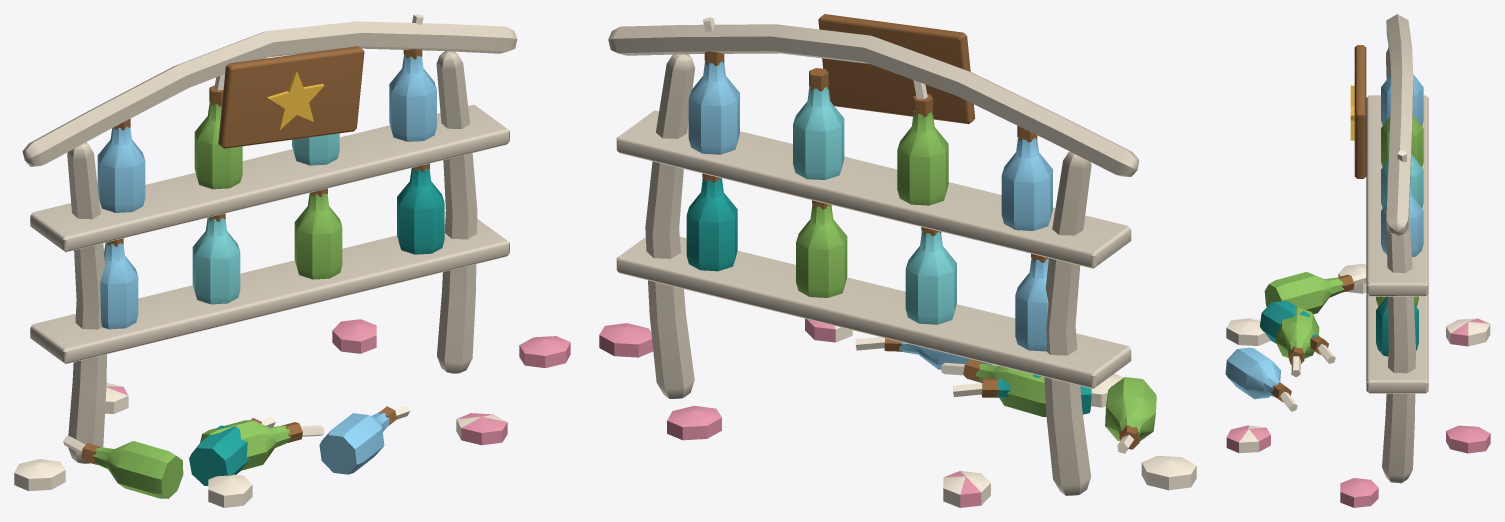
The model's file is SantuarioBotellas.fbx.
3 views of the same model, side by side, from view 1: azimuth 30°, elevation 25°; view 2: azimuth 150°, elevation 25°; view 3: azimuth 270°, elevation 25° (orthographic). The views are drawn at different scales.
Visible parts, largest first — view 1: SantuarioBotellas; view 2: SantuarioBotellas; view 3: SantuarioBotellas.
Boxes of the visible parts, x1=… form: SantuarioBotellas: x1=14, y1=14, x2=570, y2=507; SantuarioBotellas: x1=599, y1=14, x2=1196, y2=507; SantuarioBotellas: x1=1225, y1=14, x2=1490, y2=507.
Bounding box in the file's own units: 5.67 × 3.79 × 2.72.
1 material, 1 textured.
